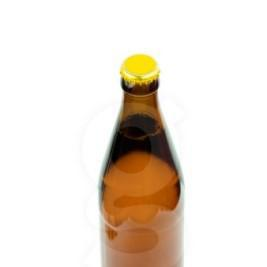beer: (97, 54, 187, 267)
